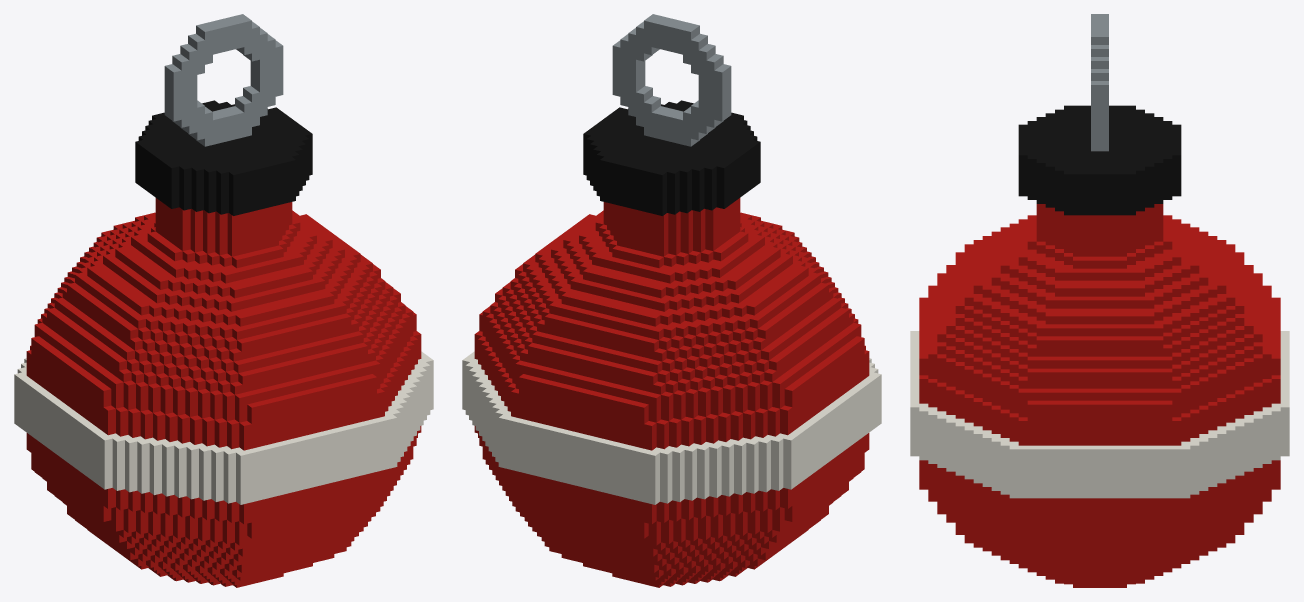
File: throw_extinguisher.glb
3 renders of one model, left to right at view 1: azimuth 30°, elevation 25°; view 2: azimuth 150°, elevation 25°; view 3: azimuth 270°, elevation 25°, orthographic.
Visible parts, largest first — view 1: throw_extinguisher:compound; view 2: throw_extinguisher:compound; view 3: throw_extinguisher:compound.
Part boxes in pixels (x1,y1,x2,y2): throw_extinguisher:compound: [14, 14, 433, 587]; throw_extinguisher:compound: [462, 14, 881, 587]; throw_extinguisher:compound: [910, 14, 1289, 587].
Size of the model in its own units: 0.084 by 0.132 by 0.084.
